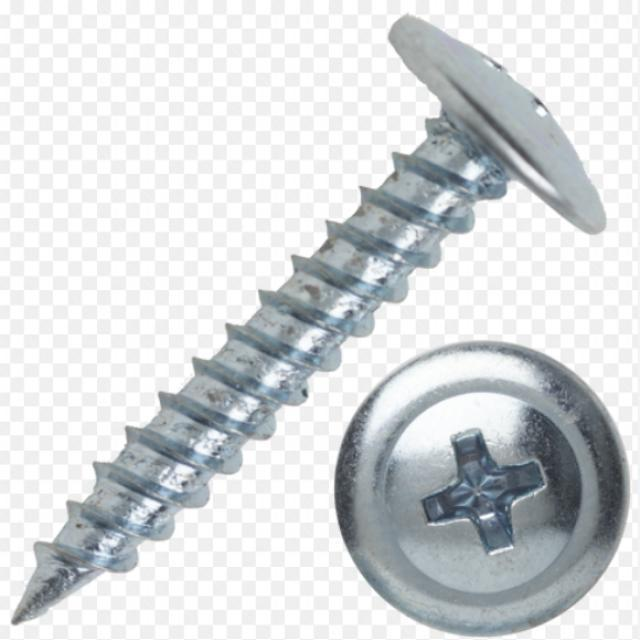Dry Waste: (338, 359, 616, 604), (386, 0, 608, 268)
